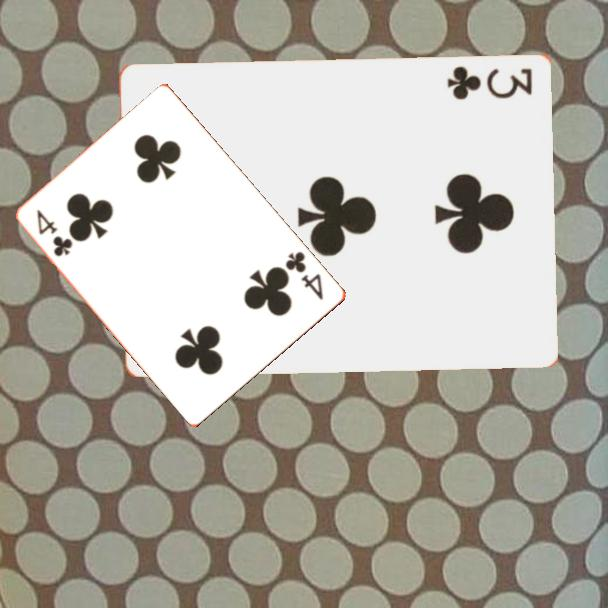c03: (444, 62, 536, 102)
c04: (282, 248, 327, 303), (33, 206, 76, 260)
